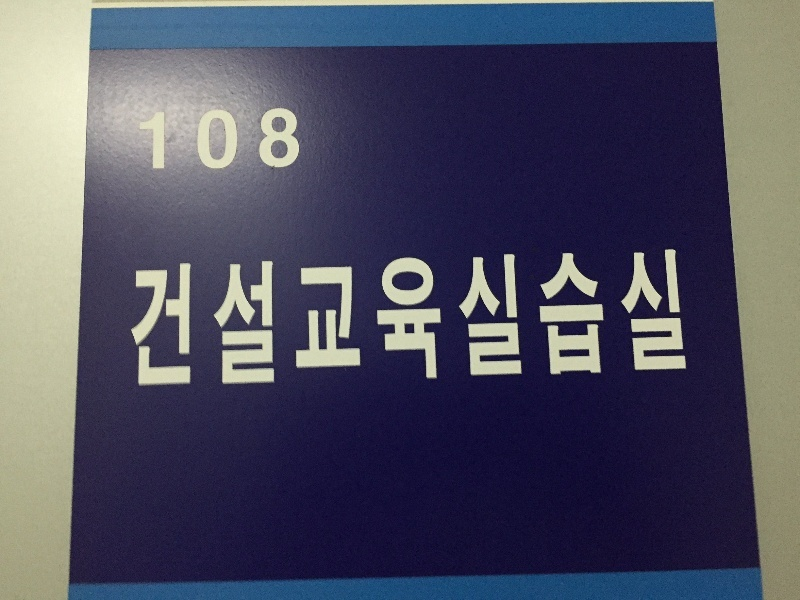text: (129, 242, 144, 396), (145, 242, 160, 396), (161, 242, 176, 396), (177, 242, 192, 396), (193, 242, 208, 396), (209, 242, 224, 396), (225, 242, 240, 396), (241, 242, 256, 396), (257, 242, 272, 396), (273, 242, 288, 396), (289, 242, 304, 396), (305, 242, 320, 396), (321, 242, 336, 396), (337, 242, 352, 396), (353, 242, 368, 396), (369, 242, 384, 396), (385, 242, 400, 396), (401, 242, 416, 396), (417, 242, 432, 396), (433, 242, 448, 396), (449, 242, 464, 396), (465, 242, 480, 396), (481, 242, 496, 396), (497, 242, 512, 396), (513, 242, 528, 396), (529, 242, 544, 396), (545, 242, 560, 396), (561, 242, 576, 396), (577, 242, 592, 396), (593, 242, 608, 396), (609, 242, 624, 396), (625, 242, 640, 396), (641, 242, 656, 396), (657, 242, 672, 396), (673, 242, 688, 396), (145, 103, 160, 177), (161, 103, 176, 177), (177, 103, 192, 177), (193, 103, 208, 177), (209, 103, 224, 177), (225, 103, 240, 177), (241, 103, 256, 177), (257, 103, 272, 177), (273, 103, 288, 177), (289, 103, 303, 177), (689, 242, 692, 396), (138, 103, 144, 177), (127, 242, 128, 396)
